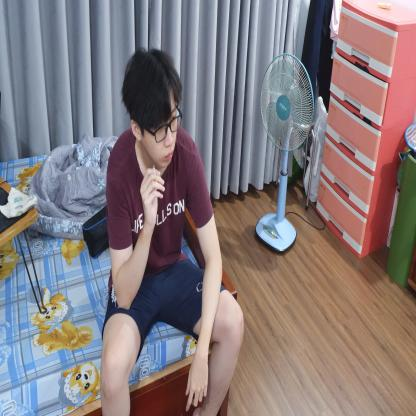cigarette: (153, 165, 157, 182)
person: (96, 44, 244, 415)
